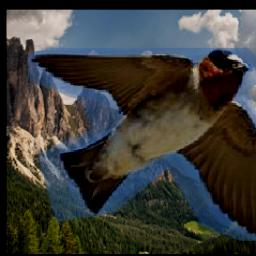Swallow: (28, 48, 256, 241)
